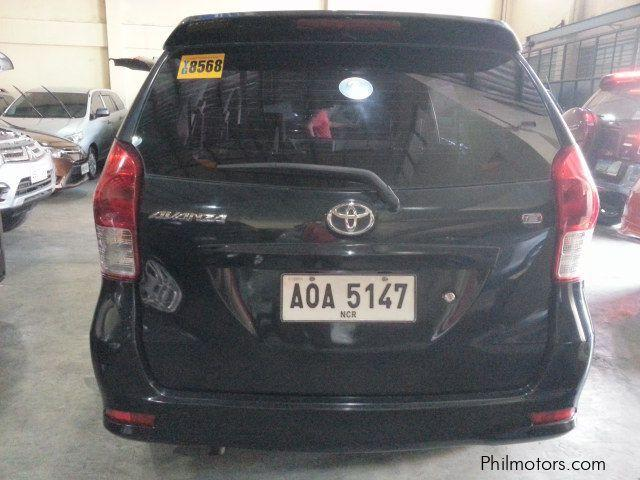plate: (282, 272, 416, 324)
